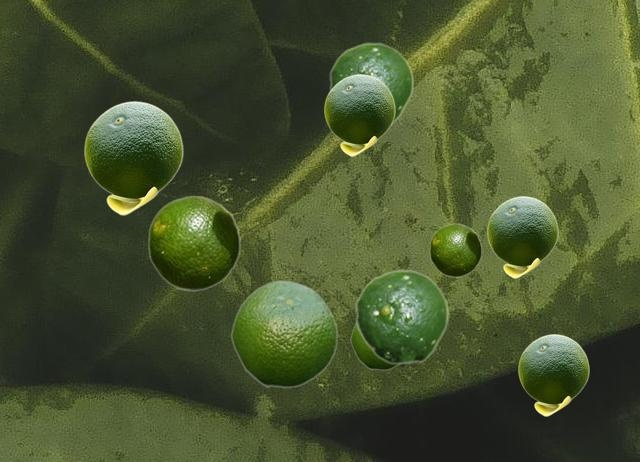calamansi: (230, 279, 337, 387), (84, 101, 182, 214), (147, 195, 240, 290), (355, 269, 448, 364), (329, 42, 413, 125), (487, 196, 557, 277), (518, 334, 588, 415), (324, 74, 394, 155), (429, 223, 481, 276), (350, 324, 398, 369)
